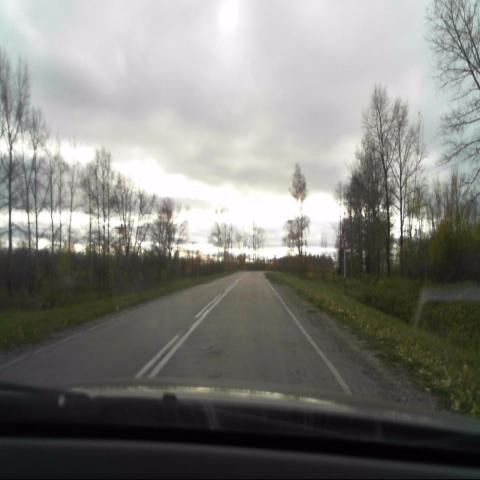1_11: (340, 235, 348, 248)
